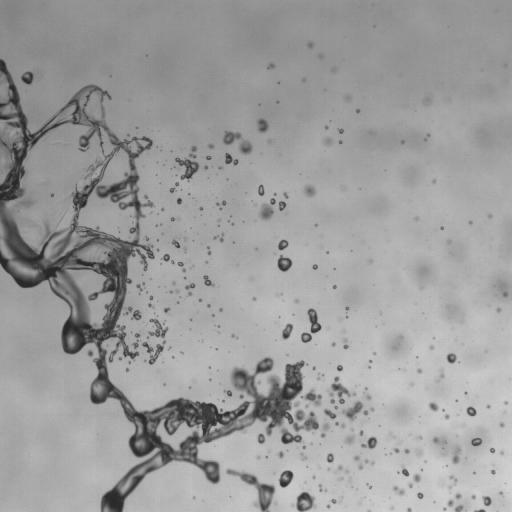droplet: (175, 146, 199, 180), (327, 376, 355, 403), (341, 401, 368, 421), (291, 491, 316, 511), (259, 198, 275, 219), (278, 470, 293, 487), (277, 255, 292, 271), (361, 436, 377, 449), (281, 323, 293, 339), (21, 71, 33, 84), (225, 153, 238, 165), (257, 118, 268, 132), (304, 185, 315, 197), (185, 283, 195, 295), (278, 239, 288, 250), (203, 275, 213, 285), (446, 353, 456, 363), (466, 406, 476, 416), (344, 434, 354, 444), (162, 254, 173, 263), (393, 486, 404, 495), (428, 402, 438, 411), (482, 496, 491, 506), (471, 437, 482, 445), (401, 466, 409, 476), (172, 239, 180, 248), (324, 137, 332, 145), (279, 201, 286, 210), (326, 453, 333, 462), (258, 185, 264, 195), (413, 474, 420, 482), (214, 235, 223, 241), (454, 505, 463, 511), (136, 284, 143, 291), (415, 449, 422, 456), (217, 201, 225, 207), (432, 437, 440, 443), (225, 390, 232, 396), (277, 451, 283, 458), (300, 453, 306, 460), (268, 63, 274, 69), (345, 95, 351, 101), (87, 350, 93, 356), (354, 455, 360, 461), (319, 485, 325, 491), (417, 492, 423, 498), (455, 493, 461, 499), (358, 462, 363, 469), (208, 144, 214, 149), (177, 198, 182, 204), (337, 365, 342, 371), (439, 371, 444, 377), (317, 373, 321, 380), (359, 431, 363, 438), (308, 42, 313, 47), (178, 262, 183, 267), (312, 264, 317, 269), (164, 307, 169, 312), (366, 394, 371, 399), (444, 414, 449, 419), (499, 422, 504, 427), (393, 448, 399, 452), (426, 98, 431, 102), (339, 128, 343, 133), (170, 188, 175, 192), (283, 193, 287, 198), (417, 368, 421, 373), (404, 449, 409, 453), (490, 448, 494, 453), (331, 499, 336, 503), (406, 507, 411, 511), (503, 292, 507, 296), (429, 345, 433, 349), (491, 470, 495, 474), (408, 483, 412, 487), (148, 304, 153, 307), (340, 424, 345, 427), (416, 436, 421, 439), (206, 156, 210, 159), (171, 217, 174, 221), (332, 285, 336, 288), (175, 289, 179, 292), (149, 296, 152, 300), (295, 299, 298, 303), (496, 308, 500, 311), (332, 342, 335, 346), (370, 408, 374, 411), (391, 434, 394, 438), (500, 451, 504, 454), (368, 484, 371, 488), (448, 486, 452, 489), (472, 495, 475, 499), (356, 109, 359, 112), (175, 182, 178, 185), (199, 207, 202, 210), (488, 214, 491, 217), (415, 217, 418, 220), (145, 237, 148, 240), (182, 268, 185, 271), (198, 298, 201, 301), (345, 307, 348, 310), (335, 422, 338, 425), (302, 445, 305, 448), (443, 452, 446, 455), (339, 477, 342, 480), (327, 504, 330, 507), (487, 404, 489, 408), (325, 126, 328, 128), (204, 166, 207, 168), (432, 180, 435, 182), (51, 193, 53, 196), (161, 208, 164, 210), (183, 248, 186, 250), (172, 282, 175, 284), (170, 290, 172, 293), (253, 297, 255, 300), (207, 304, 209, 307), (312, 367, 315, 369), (126, 368, 128, 371), (505, 401, 507, 404), (335, 406, 337, 409), (312, 476, 315, 478), (319, 55, 321, 57), (332, 69, 334, 71), (427, 134, 429, 136), (219, 166, 221, 168), (469, 221, 471, 223), (441, 227, 443, 229), (448, 240, 450, 242), (373, 352, 375, 354), (369, 360, 371, 362), (222, 400, 224, 402), (345, 470, 347, 472), (349, 479, 351, 481), (500, 492, 502, 494)
ligament: (0, 58, 321, 511), (226, 469, 277, 511), (142, 318, 167, 364), (301, 308, 321, 342), (223, 131, 252, 154), (452, 446, 461, 463), (320, 422, 329, 437), (324, 409, 336, 419), (444, 499, 453, 509), (449, 475, 457, 484), (334, 465, 342, 473), (343, 338, 348, 348), (365, 459, 374, 464), (207, 246, 211, 255), (231, 334, 237, 338), (474, 509, 485, 511), (367, 510, 371, 511)
